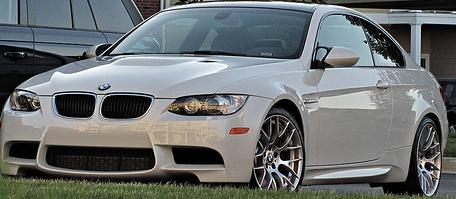front_view: (1, 89, 278, 183)
headlight: (163, 88, 252, 121)
side_glass: (309, 12, 411, 74)
